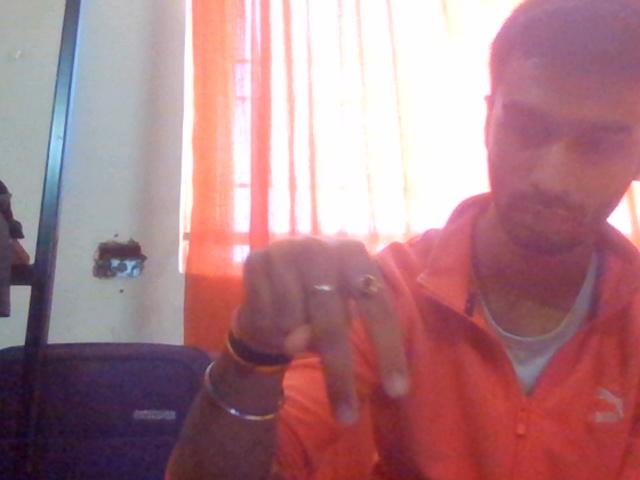P: (208, 186, 441, 466)
